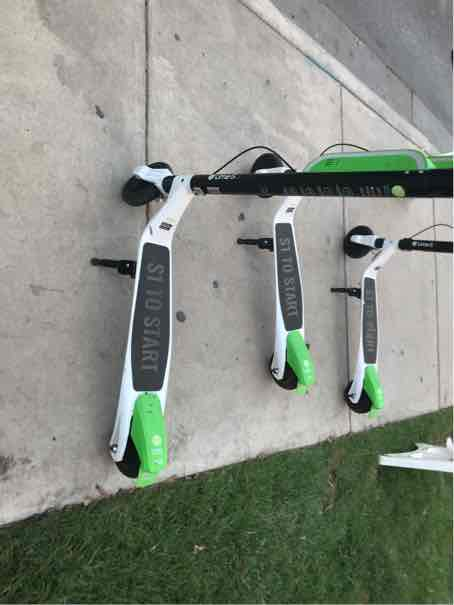scooter: (94, 128, 377, 475)
